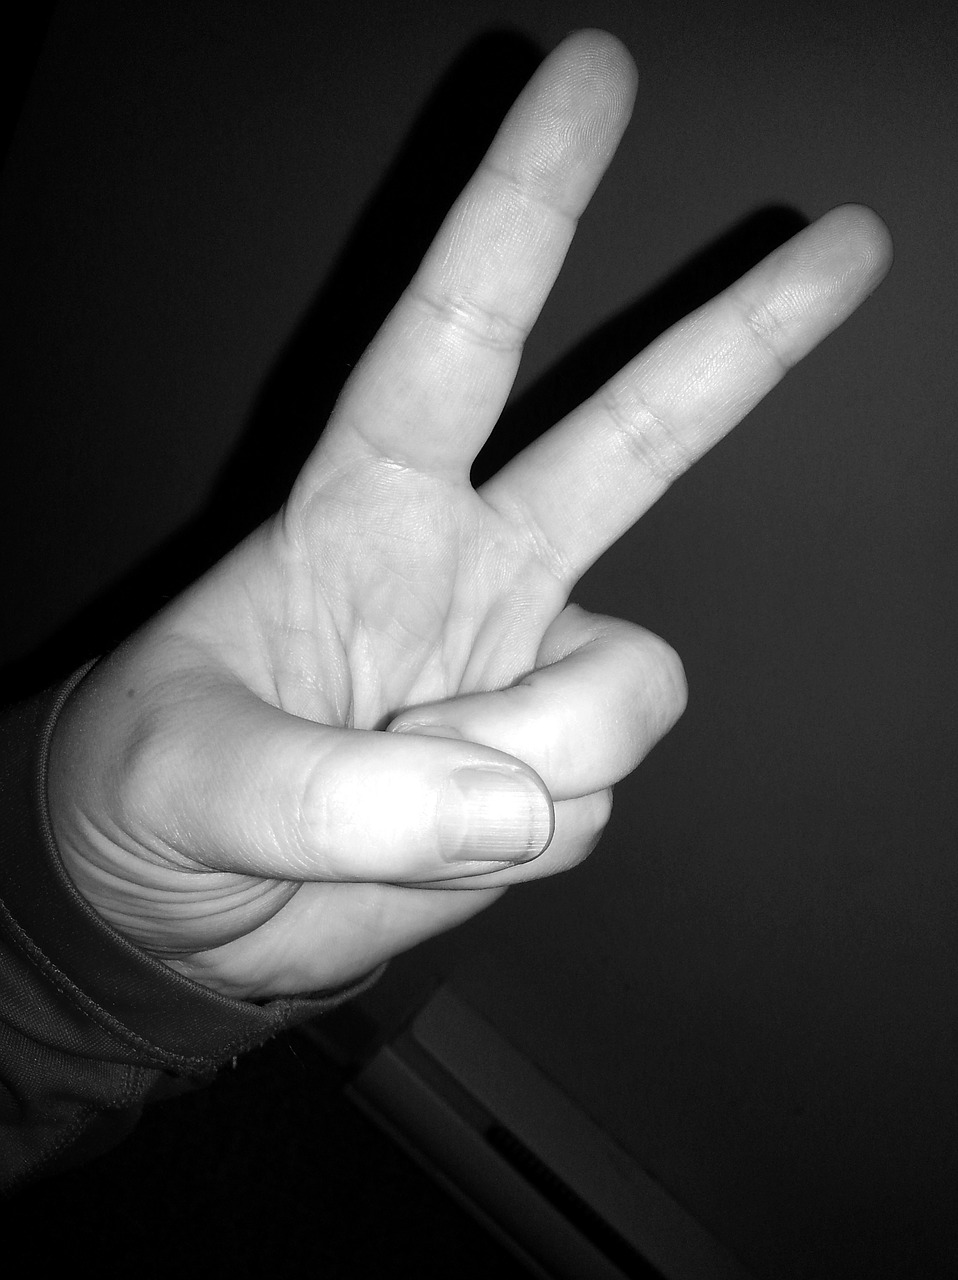peacesign: (66, 24, 911, 1018)
